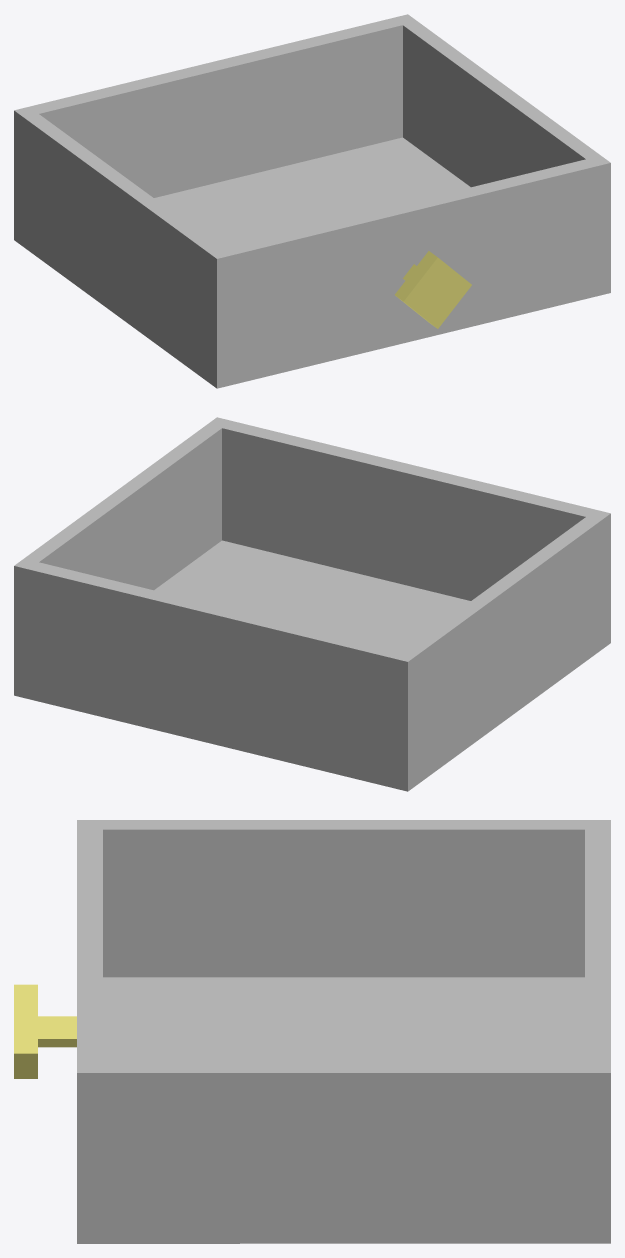
Rendered from Itr_Desk_Drawer_Inside1_06.FBX.
3 views of the same model, one above another, from view 1: azimuth 30°, elevation 25°; view 2: azimuth 150°, elevation 25°; view 3: azimuth 270°, elevation 25° (orthographic). The views are drawn at different scales.
Parts seen in each view (by area): view 1: Itr_Desk_Drawer_Inside1_06; view 2: Itr_Desk_Drawer_Inside1_06; view 3: Itr_Desk_Drawer_Inside1_06.
Part boxes in pixels (x1,y1,x2,y2): Itr_Desk_Drawer_Inside1_06: (14, 14, 610, 388); Itr_Desk_Drawer_Inside1_06: (14, 417, 610, 791); Itr_Desk_Drawer_Inside1_06: (14, 820, 610, 1243).
Size of the model in its own units: 14.4 by 4.55 by 14.37.
